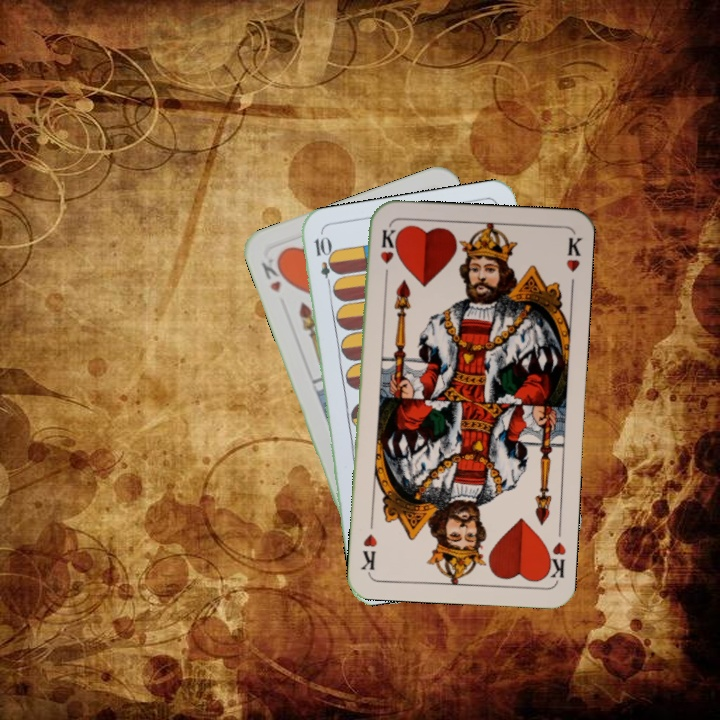E10: (310, 232, 336, 292)
HK: (376, 225, 399, 283), (540, 538, 569, 583), (257, 254, 283, 296)
